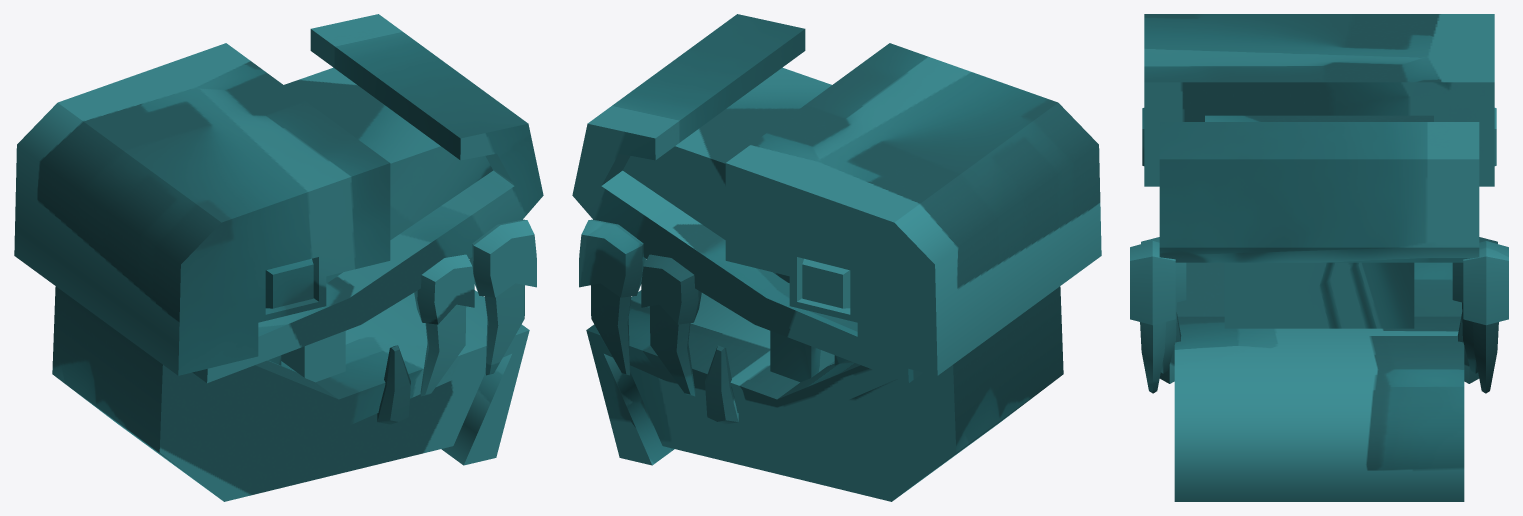
File: statueHead 1.fbx
3 renders of one model, left to right at view 1: azimuth 30°, elevation 25°; view 2: azimuth 150°, elevation 25°; view 3: azimuth 270°, elevation 25°, orthographic. The views are drawn at different scales.
Visible parts, largest first — view 1: statueHead_geo; view 2: statueHead_geo; view 3: statueHead_geo.
Part boxes in pixels (x1,y1,x2,y2): statueHead_geo: [14, 14, 543, 501]; statueHead_geo: [572, 14, 1101, 501]; statueHead_geo: [1130, 14, 1508, 501].
Bounding box in the file's own units: 75.88 × 65.24 × 62.61.
